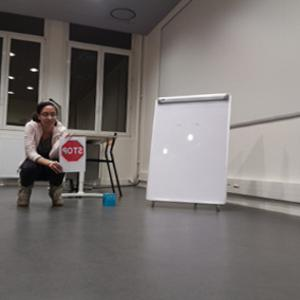big: (145, 96, 231, 207)
small: (102, 192, 118, 207)
